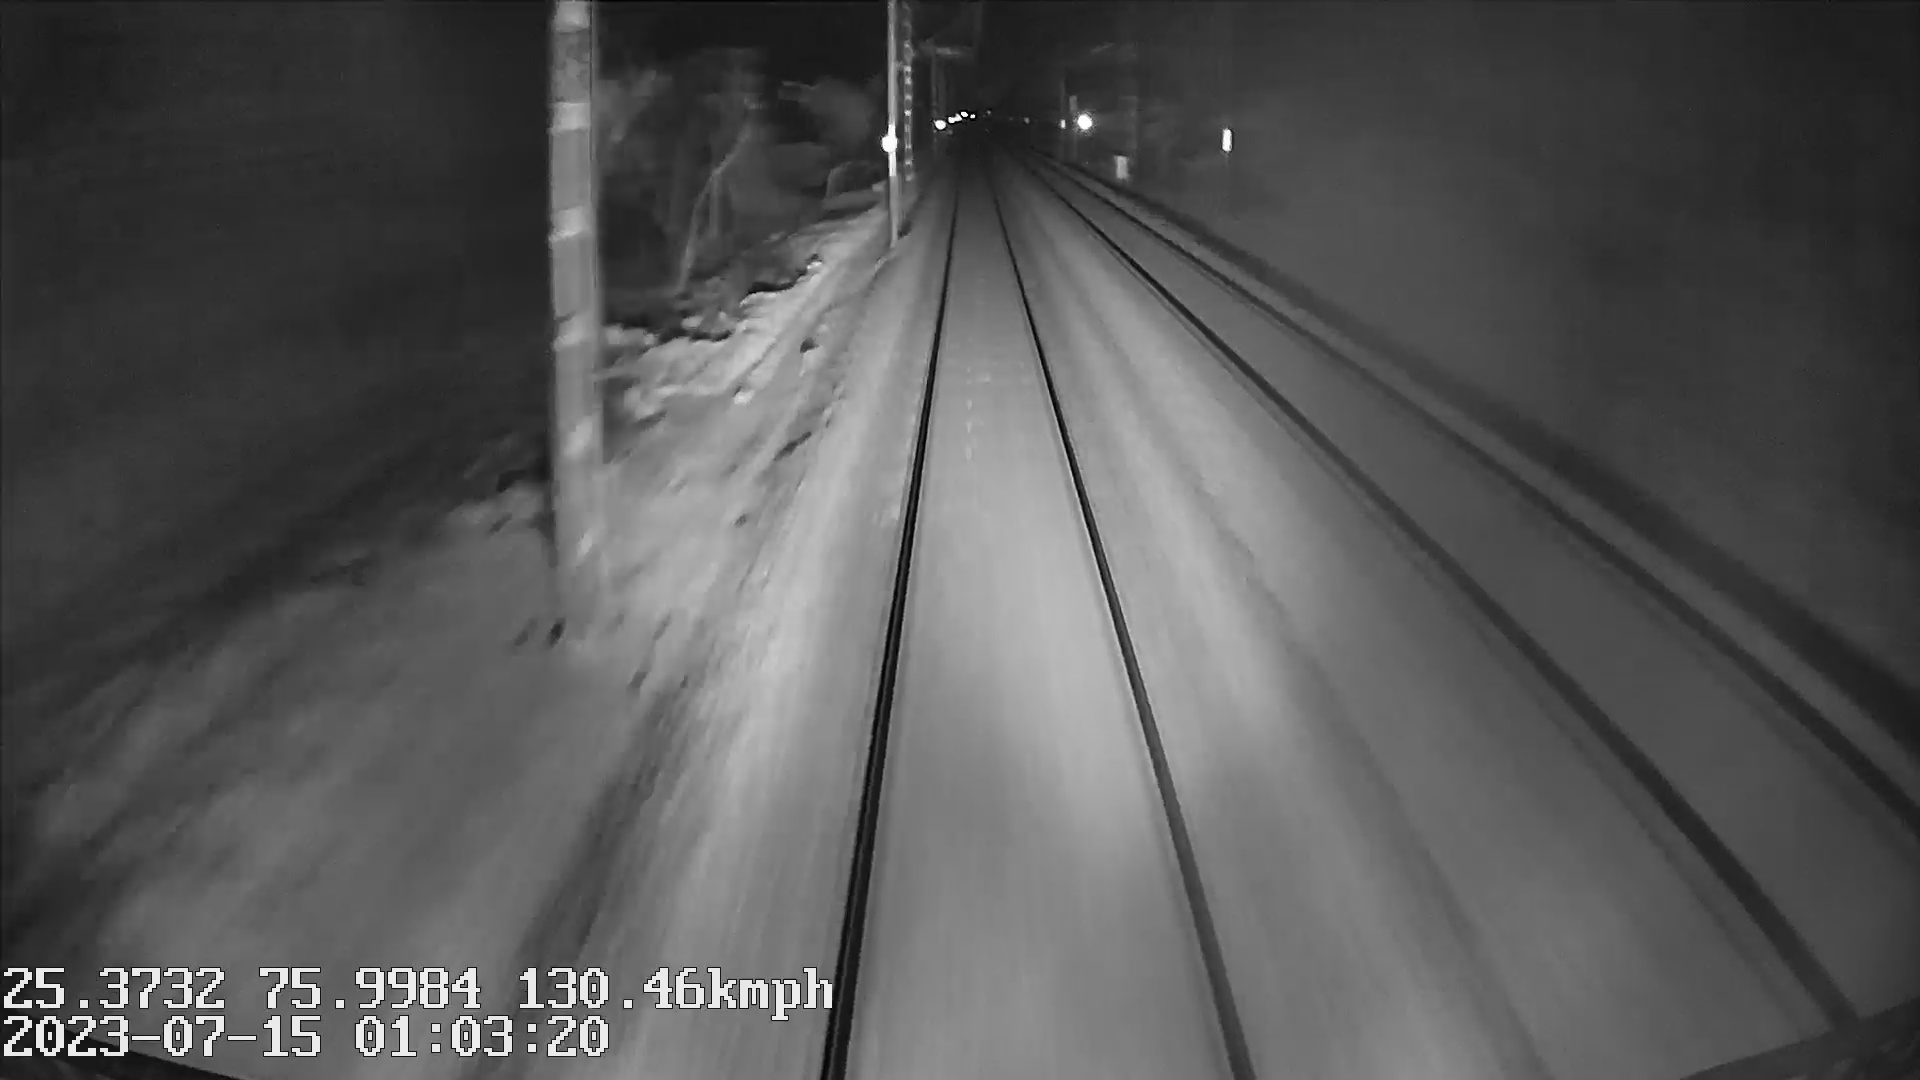track1: (837, 194, 1238, 1058)
track2: (1060, 185, 1905, 955)
